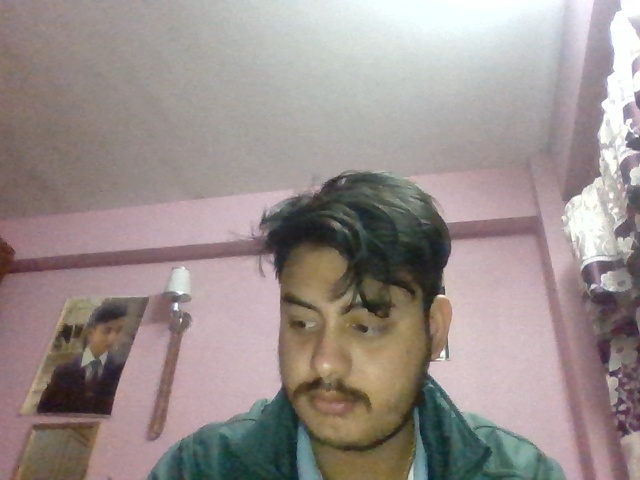no mask: (278, 349, 438, 453)
